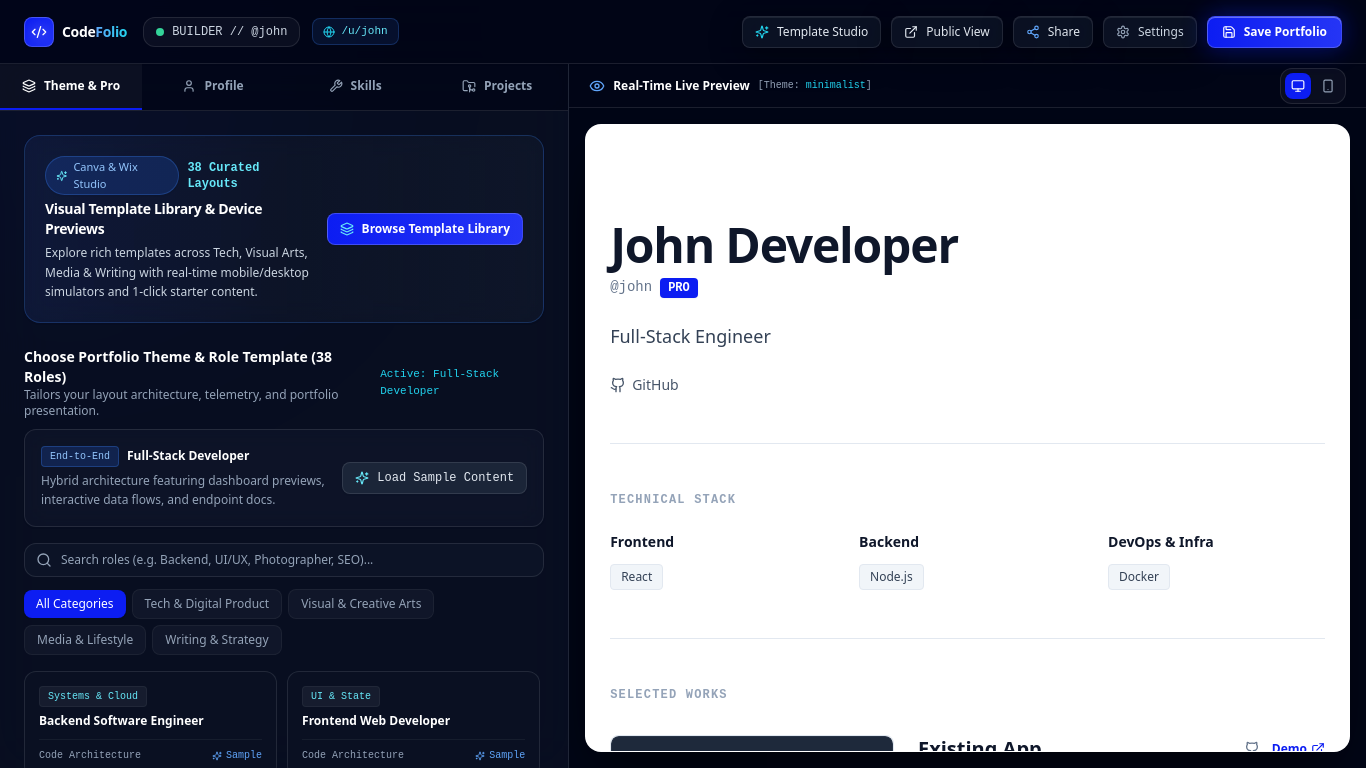
UI BUTTONS, INPUTS & COMPONENT WORKFLOW TESTS › 4. DashboardPage Tabs, Form Inputs, Project Array & Save Button › should switch between CMS tabs (Theme, Profile, Skills, Projects)
Expected: the heading "Choose Portfolio Theme & Role Template (38 Roles)" is shown, [24, 346, 372, 386]
# Click Profile tab
Click the button "Profile".
click(213, 87)  # box [142, 64, 284, 110]
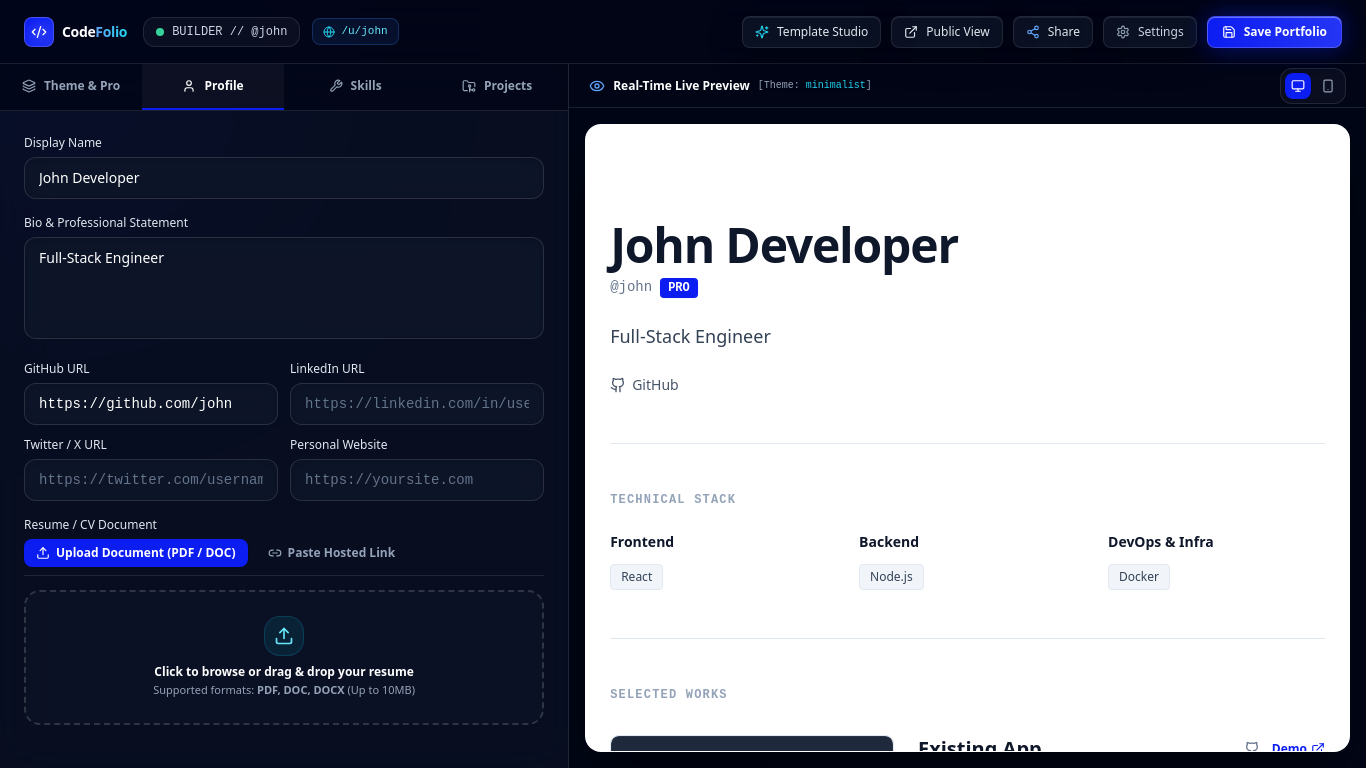
Expected: the text "Display Name" is shown, [24, 134, 102, 151]
# Click Skills tab
Click the button "Skills".
click(355, 87)  # box [284, 64, 426, 110]
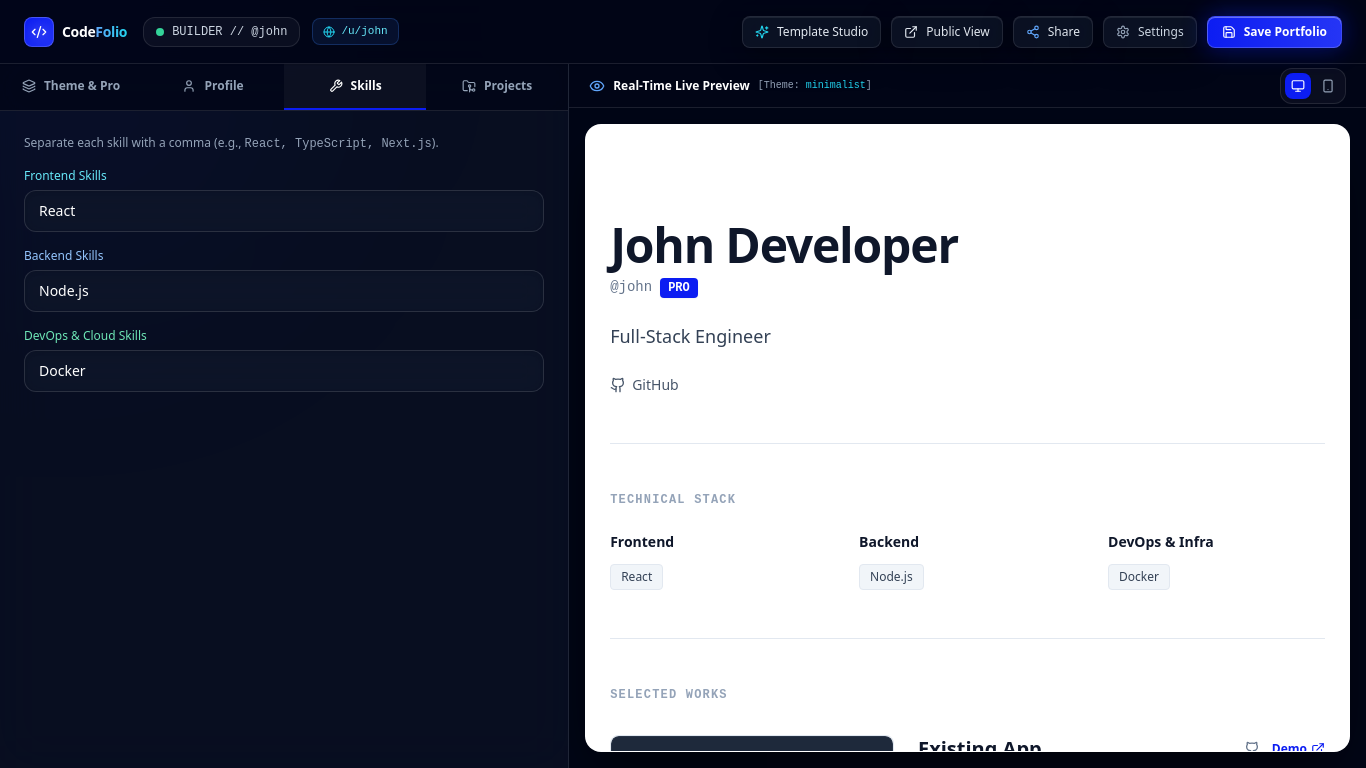
Expected: the text "Frontend Skills" is shown, [24, 167, 107, 184]
# Click Projects tab
Click the button "Projects".
click(497, 87)  # box [426, 64, 568, 110]
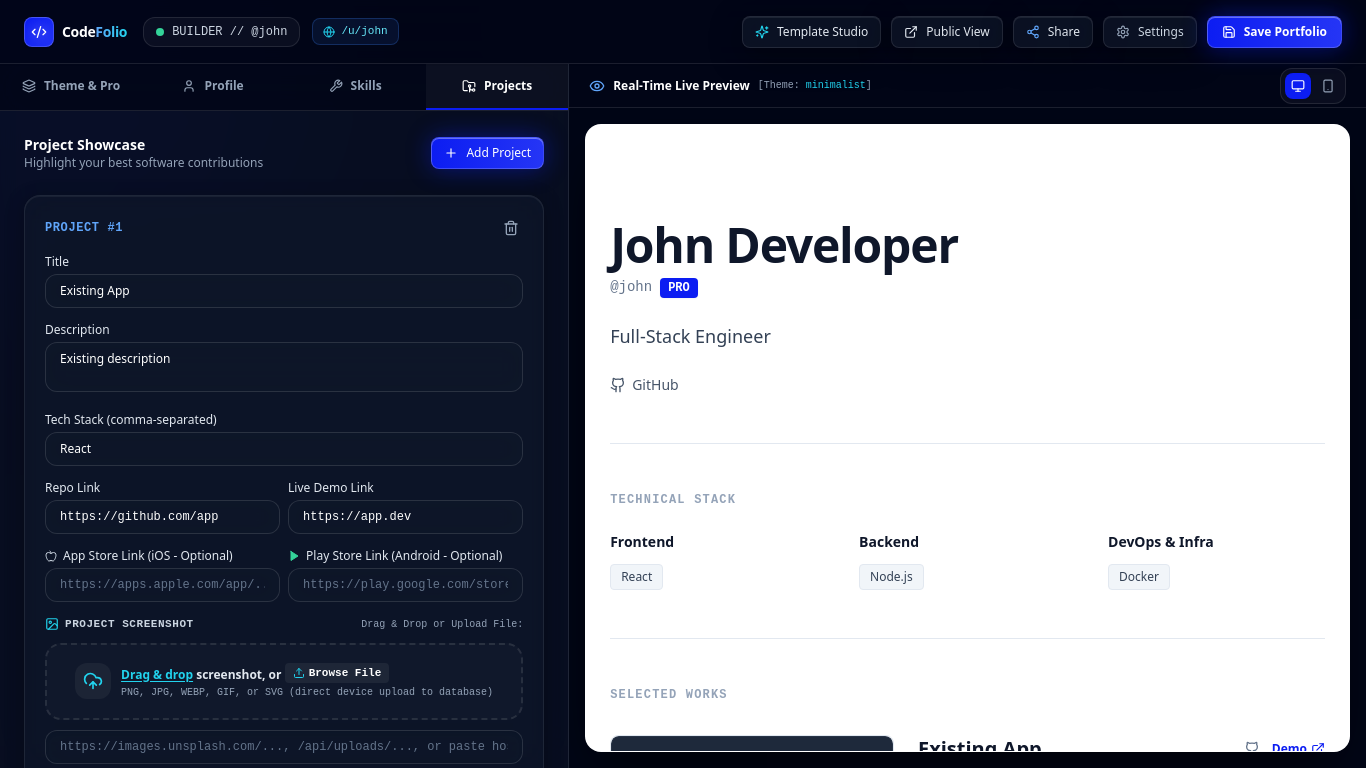
Expected: the heading "Project Showcase" is shown, [24, 135, 145, 154]
